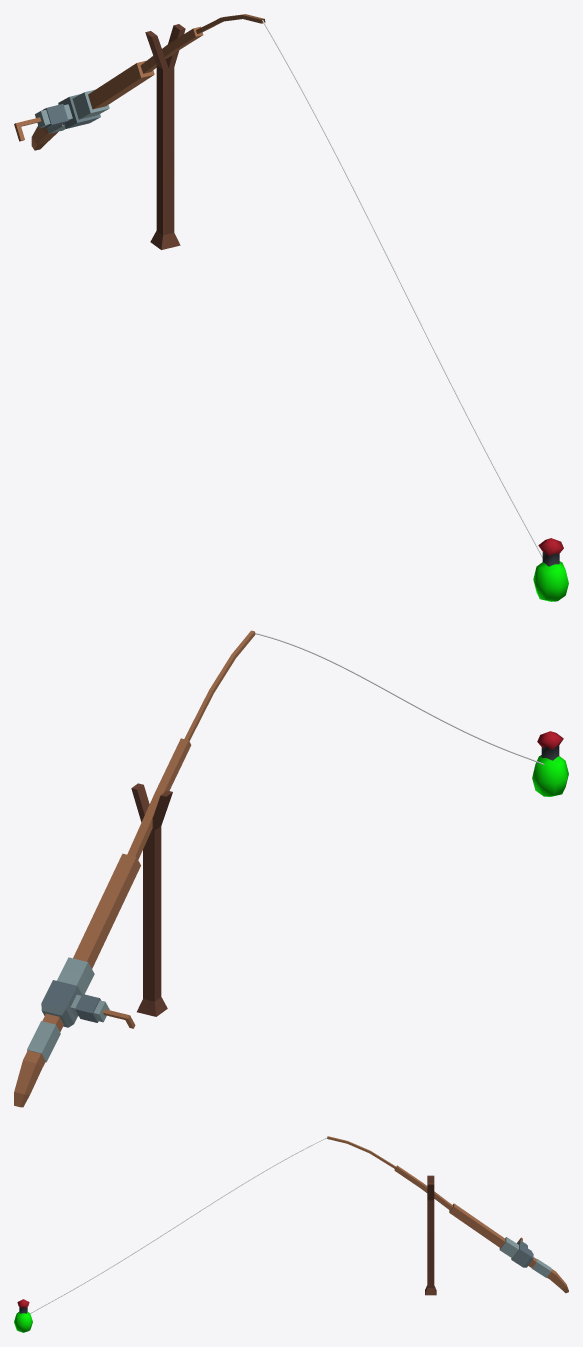
File: fishRod2.fbx
3 renders of one model, top to bottom at view 1: azimuth 30°, elevation 25°; view 2: azimuth 150°, elevation 25°; view 3: azimuth 270°, elevation 25°, orthographic. The views are drawn at different scales.
Visible parts, largest first — view 1: Cube.004, Cube.003, Cube.005, NurbsPath.001; view 2: Cube.004, Cube.003, Cube.005, NurbsPath.001; view 3: Cube.004, Cube.003, Cube.005, NurbsPath.001.
Boxes of the visible parts, x1,y1,x2,y2 form: Cube.004: (14, 14, 265, 150); Cube.003: (145, 24, 185, 249); Cube.005: (533, 538, 568, 601); NurbsPath.001: (262, 20, 542, 557); Cube.004: (14, 630, 255, 1107); Cube.003: (131, 783, 172, 1016); Cube.005: (532, 731, 568, 796); NurbsPath.001: (255, 633, 544, 764); Cube.004: (327, 1136, 568, 1293); Cube.003: (425, 1175, 436, 1295); Cube.005: (14, 1299, 32, 1332); NurbsPath.001: (30, 1137, 327, 1313).
Bounding box in the file's own units: 143 × 627 × 1608.
Materials: 1 (1 with a texture image).
